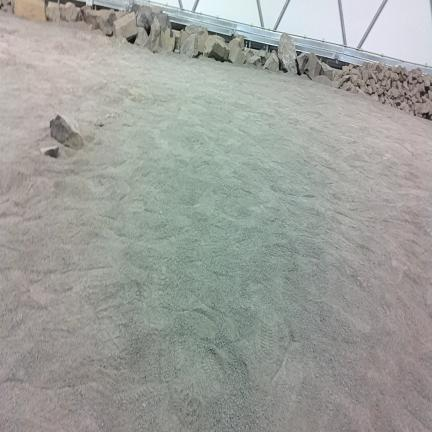Rock: (93, 23, 131, 83), (114, 13, 158, 44), (50, 115, 83, 149), (82, 6, 116, 35), (180, 25, 208, 54), (278, 33, 297, 74), (15, 0, 46, 20), (204, 36, 228, 61), (133, 5, 153, 34), (301, 75, 340, 88), (148, 18, 161, 52), (180, 34, 198, 58), (305, 52, 321, 79), (229, 39, 245, 65), (149, 12, 171, 30), (160, 28, 175, 52), (264, 51, 279, 71), (296, 52, 309, 75), (65, 2, 79, 22), (46, 2, 60, 21), (135, 27, 148, 47), (40, 145, 59, 158), (321, 63, 333, 81), (0, 0, 14, 13), (313, 75, 331, 85), (257, 50, 269, 65), (173, 30, 180, 52), (247, 56, 262, 66), (234, 34, 244, 49), (420, 101, 431, 114), (340, 81, 354, 91), (339, 75, 350, 87), (245, 48, 254, 60), (59, 4, 65, 21), (417, 83, 426, 94), (362, 67, 369, 81), (116, 11, 128, 19), (351, 74, 358, 86), (391, 88, 399, 98), (298, 75, 310, 81), (377, 63, 383, 73), (371, 81, 376, 92), (400, 101, 406, 110), (379, 94, 385, 103), (381, 79, 387, 88), (408, 73, 413, 83), (386, 80, 391, 90), (392, 73, 398, 81), (412, 96, 418, 103), (403, 82, 408, 90), (395, 100, 401, 106), (378, 73, 383, 80), (418, 76, 423, 83)
